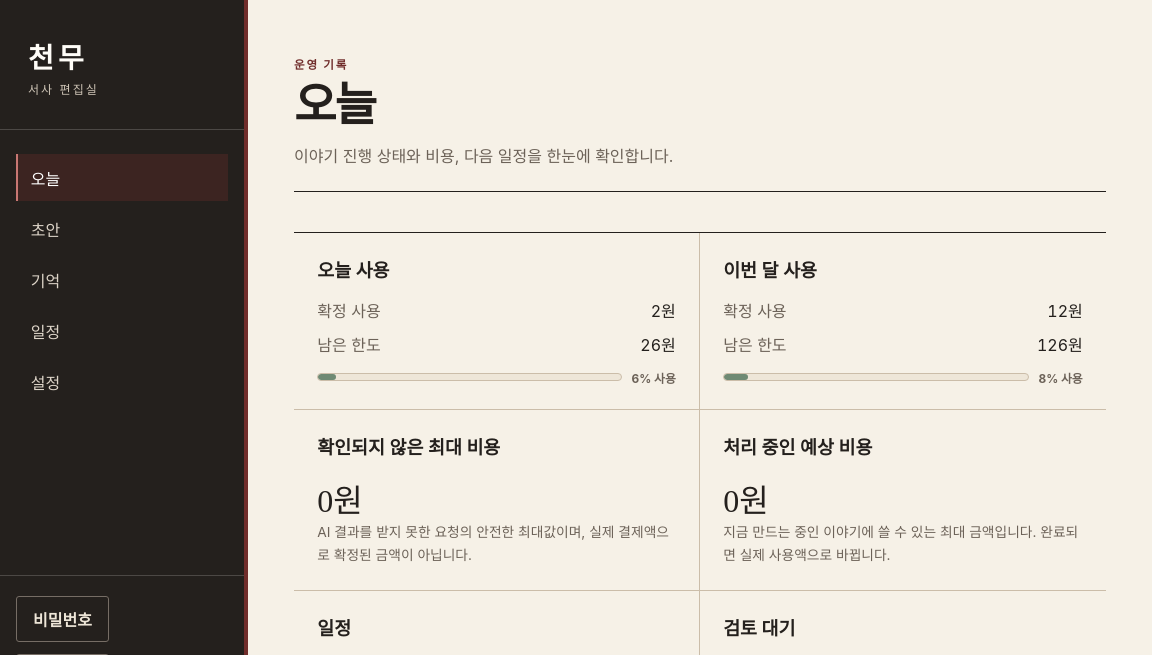
Test case: AdminApp local preview composition › explains a rejected password change without clearing the form
Click the button with aria-label "비밀번호 변경" at (62, 619), box [16, 596, 109, 642]
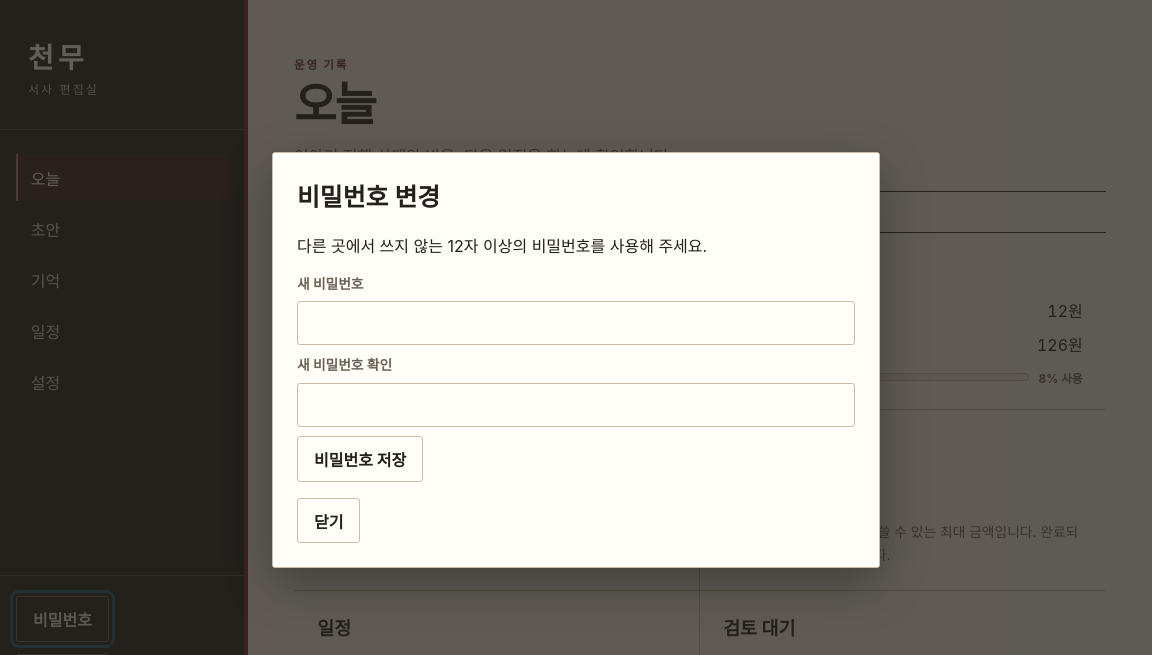
Type "new-secure-password" into the password field labelled "새 비밀번호" at (576, 323), box [297, 301, 855, 345]
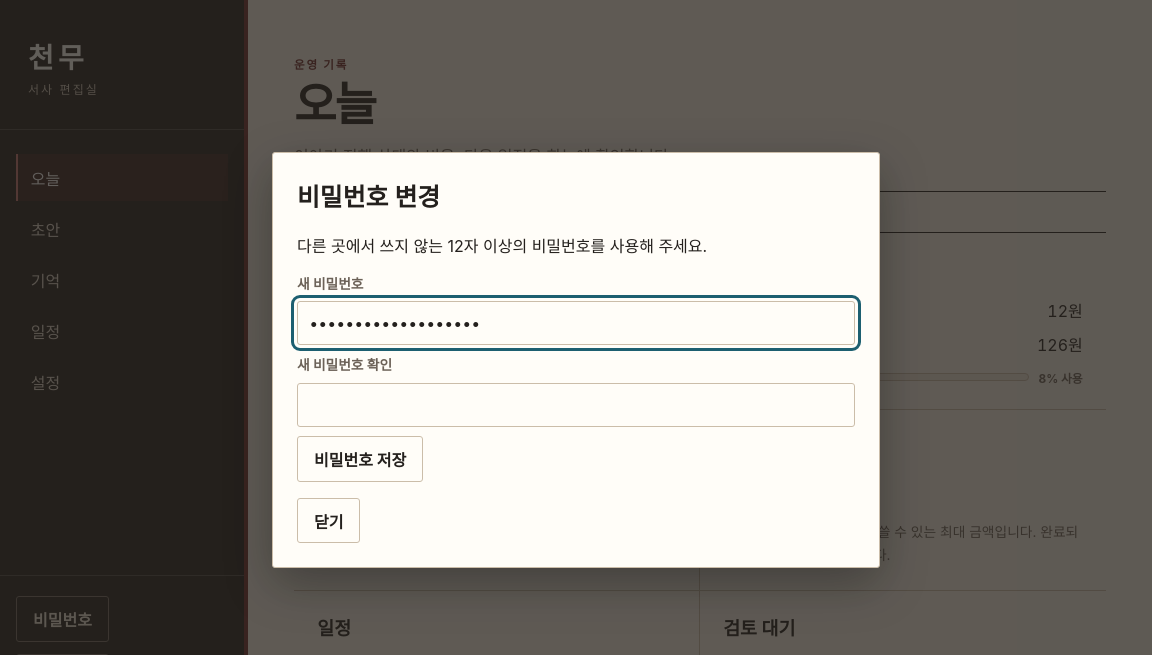
Type "new-secure-password" into the password field labelled "새 비밀번호 확인" at (576, 405), box [297, 383, 855, 427]
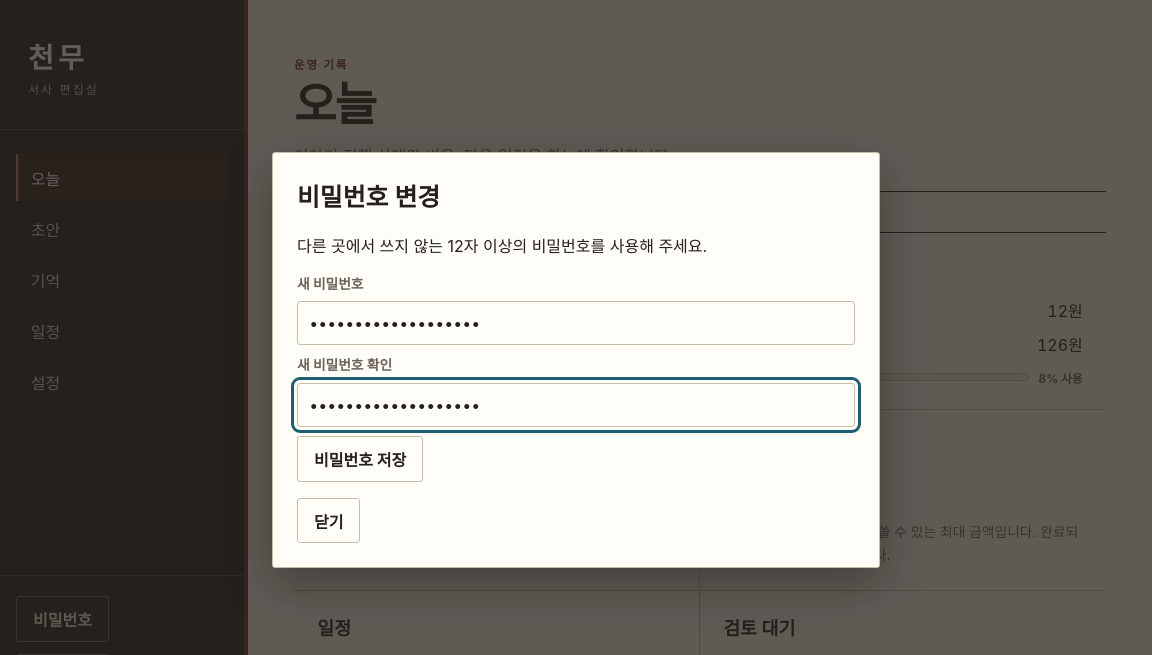
Click the button "비밀번호 저장" at (360, 459), box [297, 436, 423, 482]
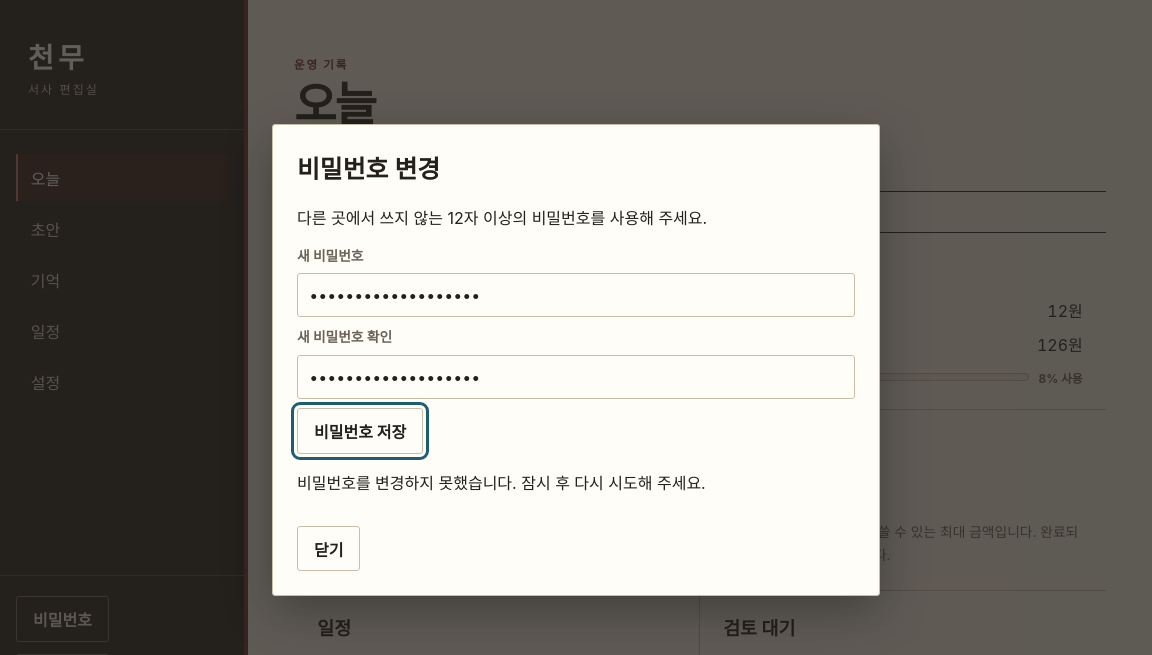
Result: the message reads "비밀번호를 변경하지 못했습니다. 잠시 후 다시 시도해 주세요." at [297, 473, 706, 493]
